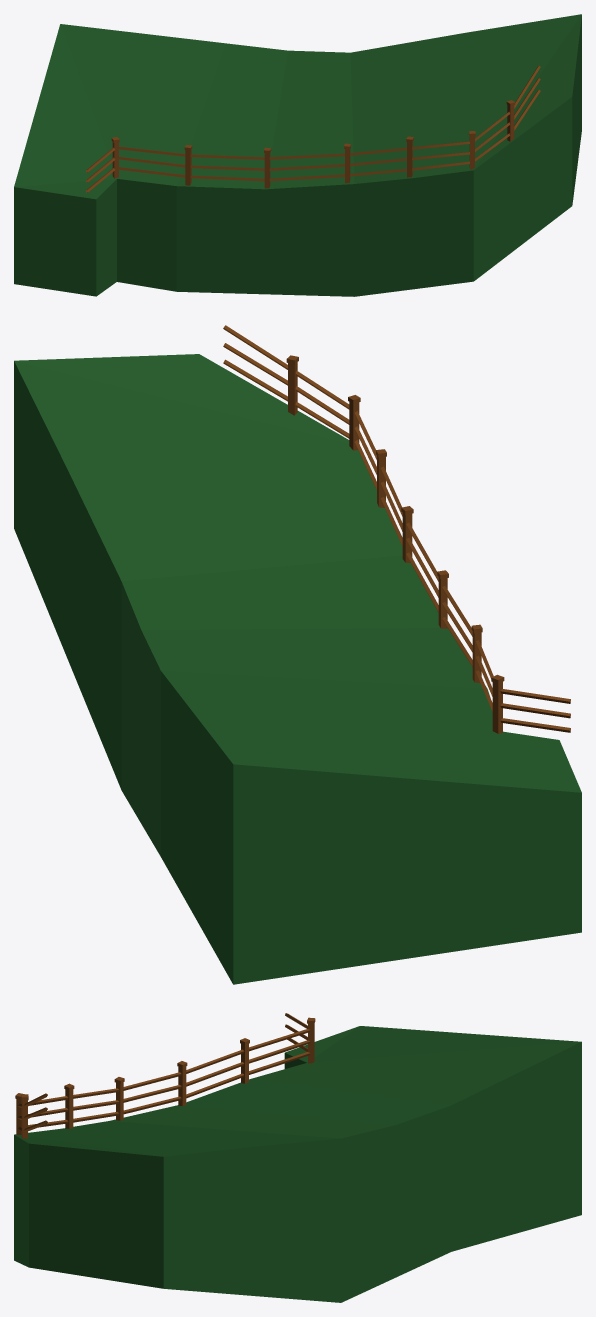
File: Dokdo_Police_Way_02.FBX
3 renders of one model, top to bottom at view 1: azimuth 30°, elevation 25°; view 2: azimuth 150°, elevation 25°; view 3: azimuth 270°, elevation 25°, orthographic. The views are drawn at different scales.
Parts seen in each view (by area): view 1: Dokdo_Police_Way_02; view 2: Dokdo_Police_Way_02; view 3: Dokdo_Police_Way_02.
Boxes of the visible parts, left/top/right/bottom form: Dokdo_Police_Way_02: left=14, top=14, right=581, bottom=296; Dokdo_Police_Way_02: left=14, top=325, right=581, bottom=984; Dokdo_Police_Way_02: left=14, top=1013, right=581, bottom=1302.
Bounding box in the file's own units: 16.25 × 7.29 × 14.67.
